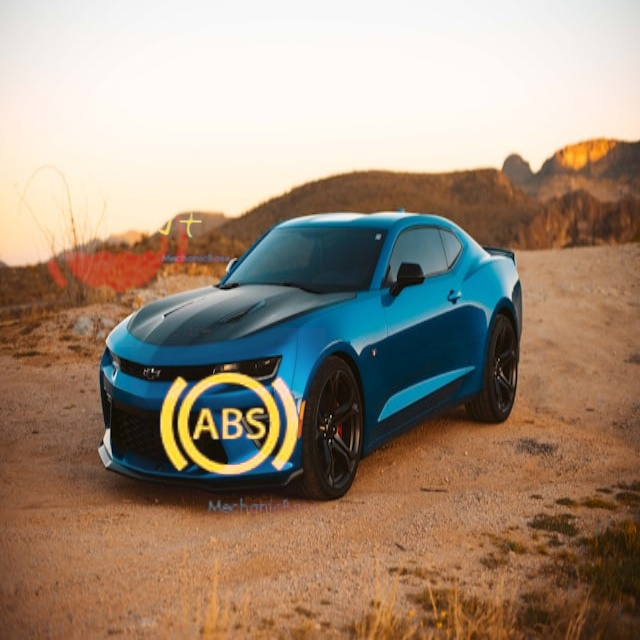symbol: (10, 138, 219, 347), (131, 328, 326, 523), (114, 147, 235, 268)
